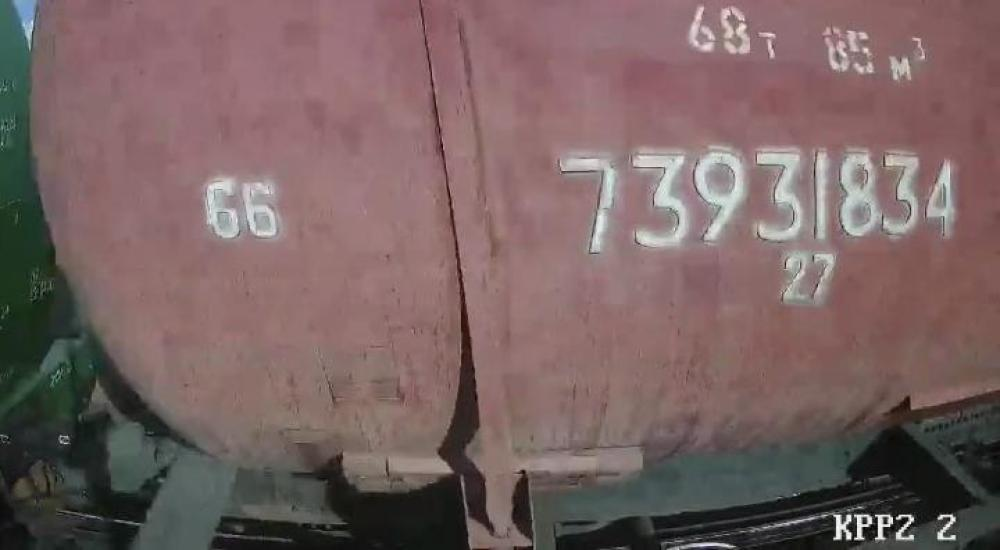Wagon-number: (554, 140, 962, 256)
